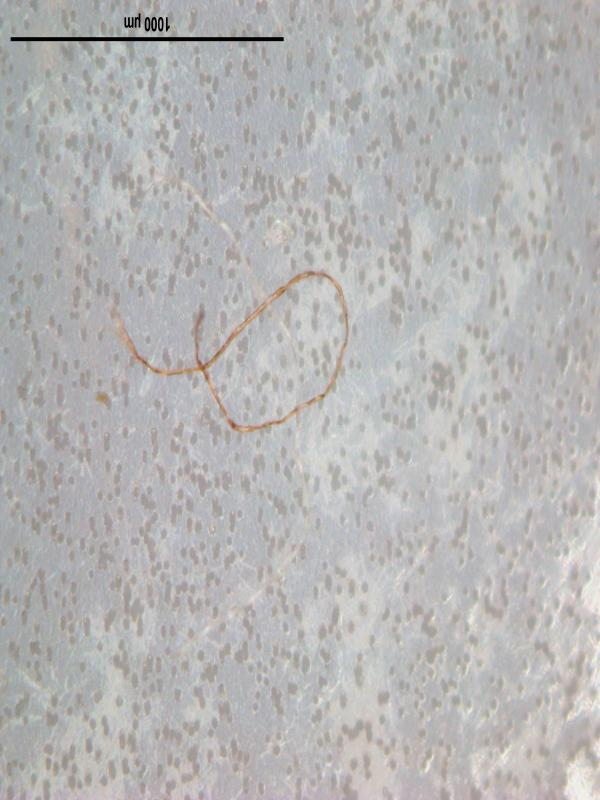microplastic: (2, 3, 599, 799), (112, 270, 350, 435)
